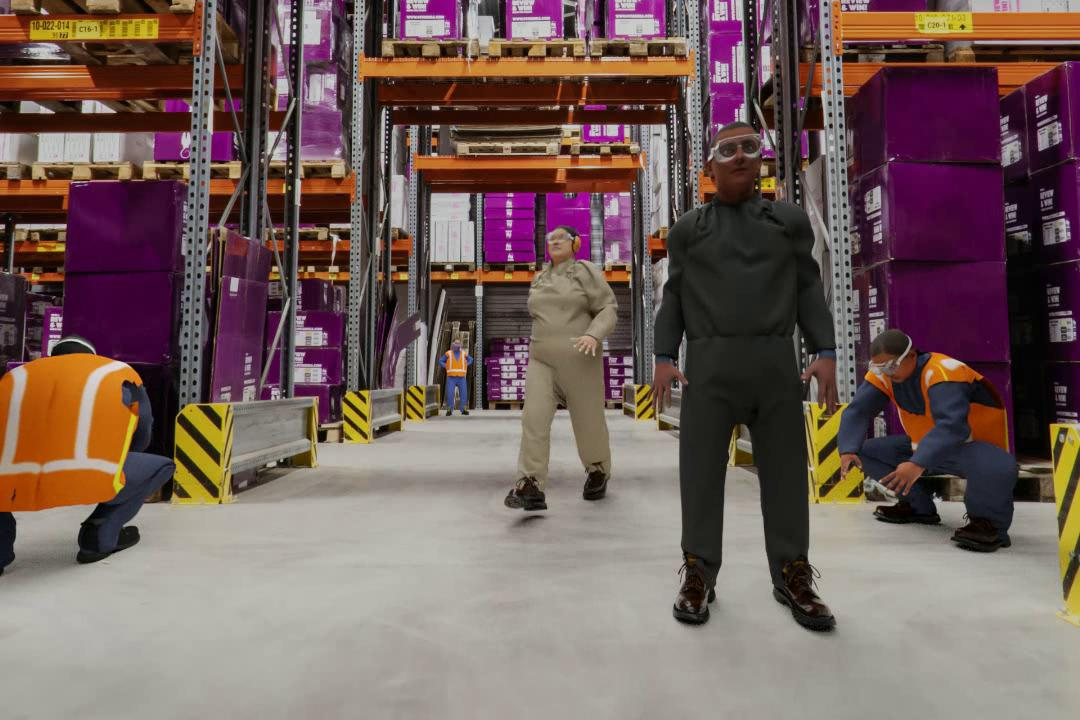Goggles: (705, 130, 766, 162), (863, 356, 901, 377), (866, 362, 904, 377), (544, 229, 577, 245)
Jacket: (0, 351, 127, 506), (883, 387, 1007, 445), (444, 349, 470, 379)
Shoes: (770, 544, 844, 633), (670, 554, 720, 636), (84, 517, 146, 566), (506, 473, 550, 514), (583, 461, 613, 504)
